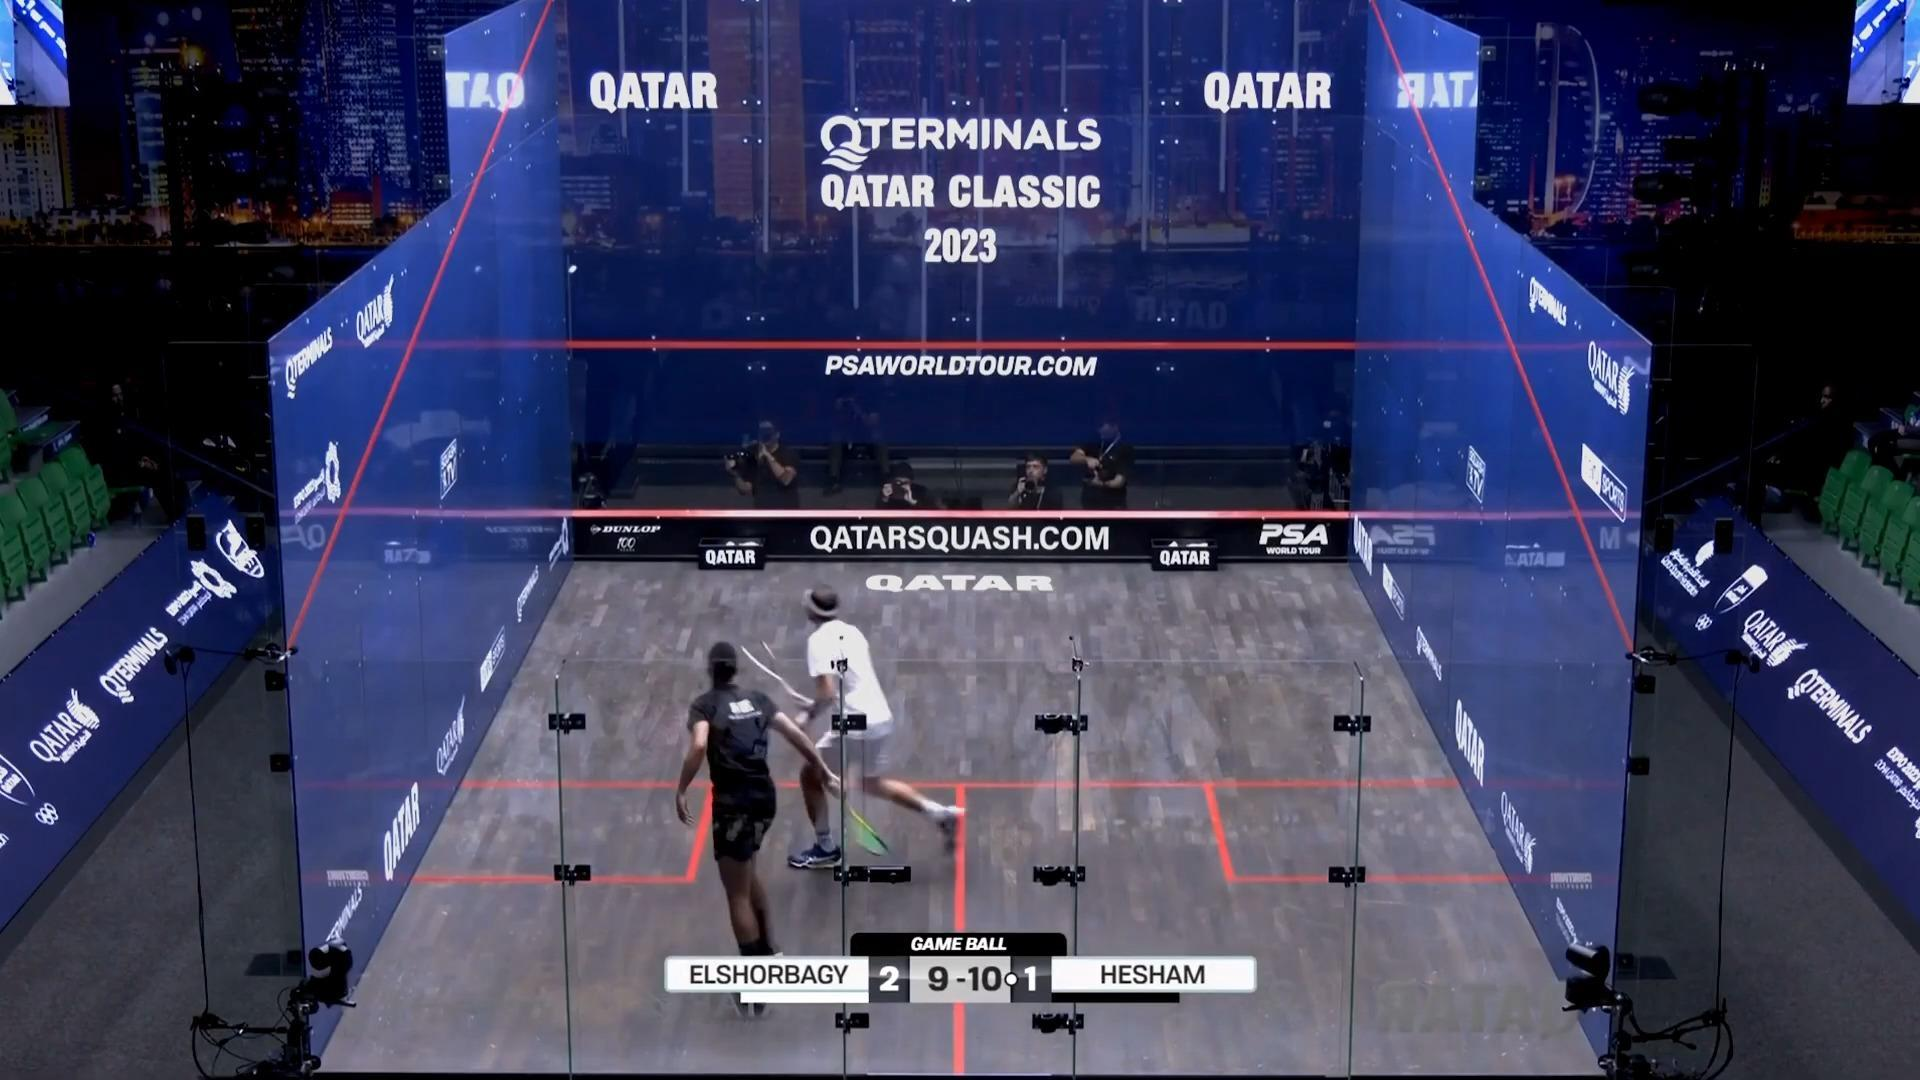Squash-Ball: (560, 253, 584, 286)
